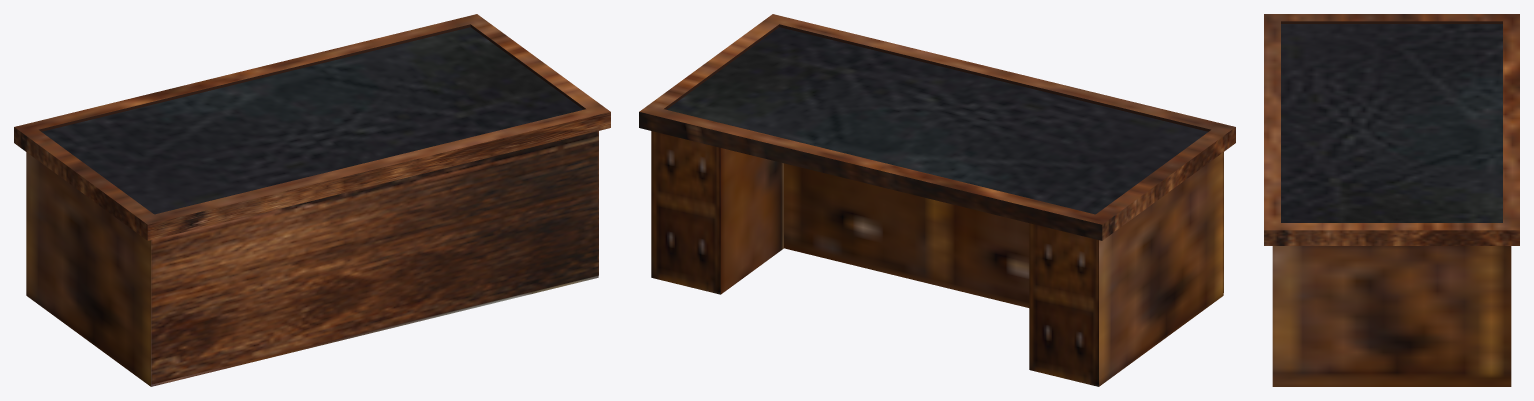
Rendered from office_desk.glb.
The picture shows the model from 3 angles, left to right: view 1: azimuth 30°, elevation 25°; view 2: azimuth 150°, elevation 25°; view 3: azimuth 270°, elevation 25°; orthographic projection. The views are drawn at different scales.
Visible parts, largest first — view 1: Piano.001, Piano, Cube, Cubo; view 2: Cubo, Piano, Cube; view 3: Piano, Cubo, Cube.
Boxes of the visible parts, <box> form: Piano.001: <box>151,131,598,384</box>; Piano: <box>41,27,583,214</box>; Cube: <box>14,14,610,240</box>; Cubo: <box>26,152,598,386</box>; Cubo: <box>651,131,1223,386</box>; Piano: <box>666,27,1208,214</box>; Cube: <box>639,14,1235,240</box>; Piano: <box>1281,24,1502,222</box>; Cubo: <box>1272,246,1511,386</box>; Cube: <box>1264,14,1519,245</box>.
Bounding box in the file's own units: 3 × 1.04 × 1.5.
4 materials, 4 textured.
